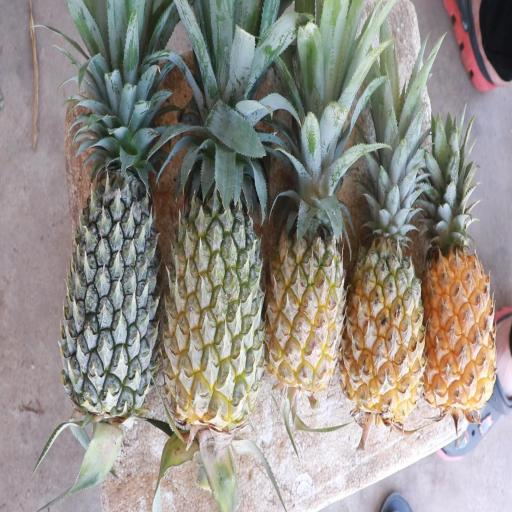------------------------------: (168, 129, 262, 429)
Pineapple - v8 v1: (350, 186, 424, 408), (274, 156, 345, 387), (420, 203, 498, 407)
